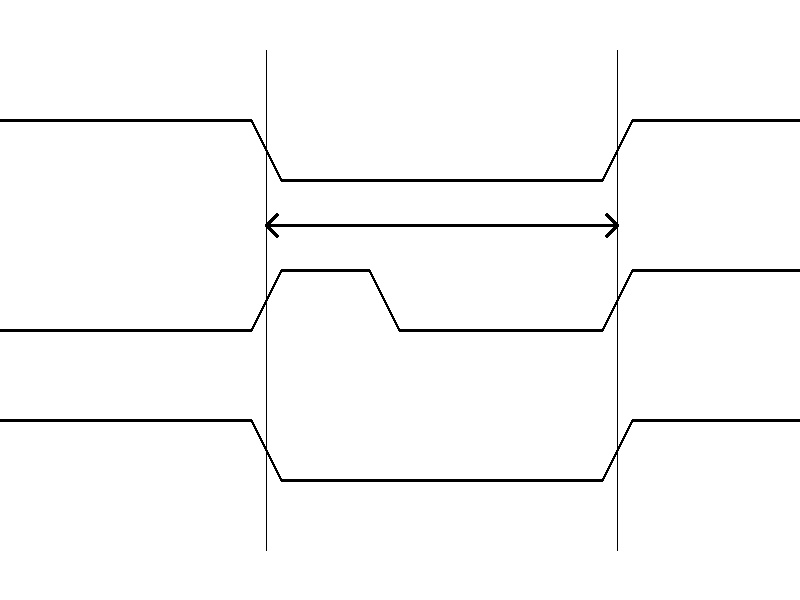double_arrow: (266, 210, 617, 240)
